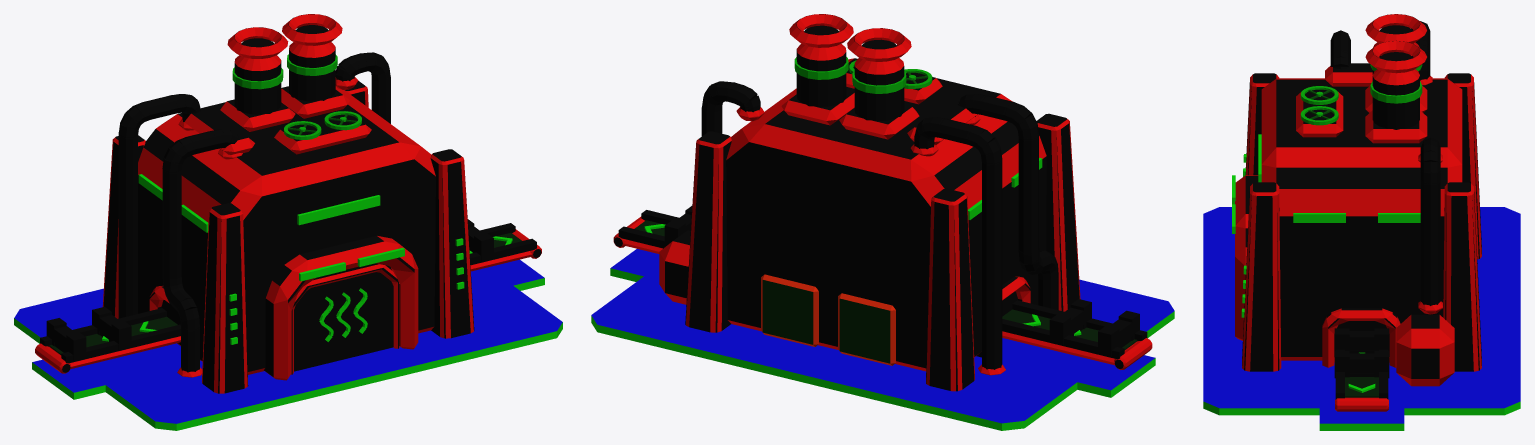
File: SM_Holo_Smelter_T2_Mini.fbx
The picture shows the model from 3 angles, left to right: view 1: azimuth 30°, elevation 25°; view 2: azimuth 150°, elevation 25°; view 3: azimuth 270°, elevation 25°; orthographic projection. The views are drawn at different scales.
Visible parts, largest first — view 1: SM_Holo_Smelter_T2_Mini; view 2: SM_Holo_Smelter_T2_Mini; view 3: SM_Holo_Smelter_T2_Mini.
Boxes of the visible parts, x1,y1,x2,y2 form: SM_Holo_Smelter_T2_Mini: (14,14,562,430); SM_Holo_Smelter_T2_Mini: (591,14,1174,430); SM_Holo_Smelter_T2_Mini: (1203,14,1520,430).
Size of the model in its own units: 21.31 by 11.88 by 12.
